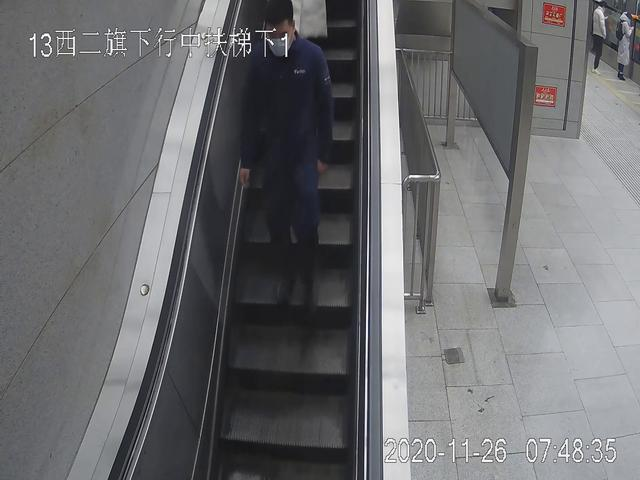person: (240, 1, 336, 311), (614, 12, 639, 80), (589, 2, 608, 71)
